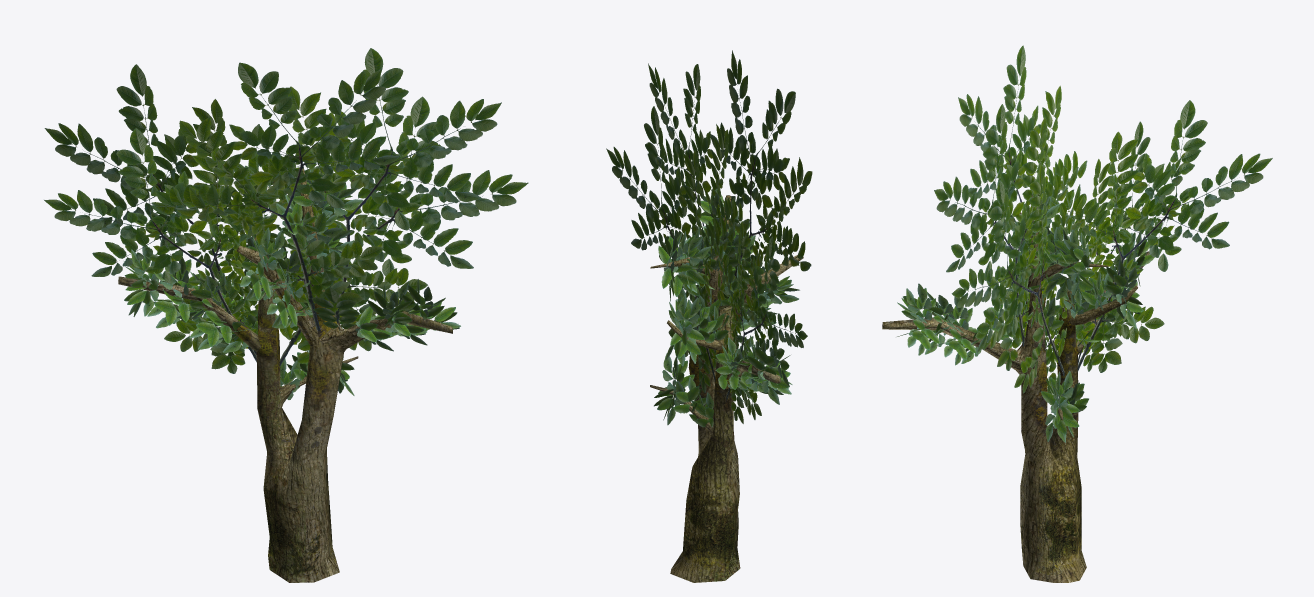
The model's file is tree7LOD.FBX.
3 renders of one model, left to right at view 1: azimuth 30°, elevation 25°; view 2: azimuth 150°, elevation 25°; view 3: azimuth 270°, elevation 25°, orthographic. The views are drawn at different scales.
Parts seen in each view (by area): view 1: Plane2186, tree7uv; view 2: Plane2186, tree7uv; view 3: Plane2186, tree7uv.
Boxes of the visible parts, x1,y1,x2,y2 form: Plane2186: [44, 48, 528, 399]; tree7uv: [118, 168, 452, 582]; Plane2186: [606, 50, 812, 427]; tree7uv: [650, 195, 803, 582]; Plane2186: [897, 45, 1272, 442]; tree7uv: [882, 194, 1149, 582].
Size of the model in its own units: 977 by 972 by 1320.
